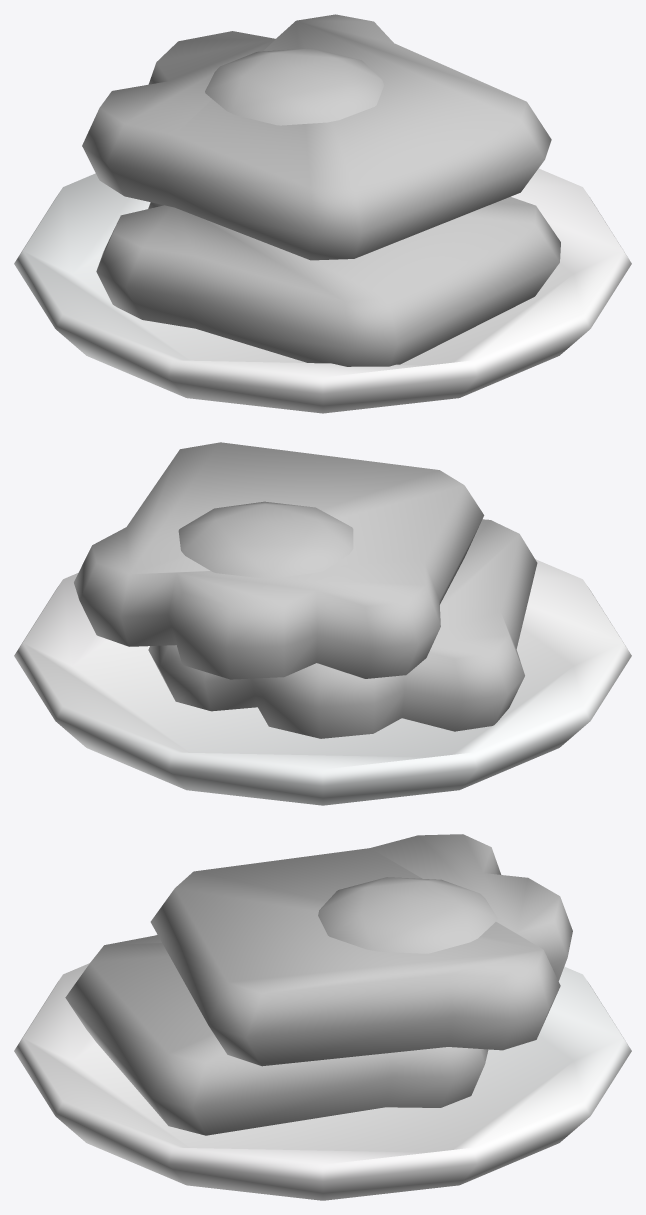
Rendered from 1_Food_Model.fbx.
3 renders of one model, top to bottom at view 1: azimuth 30°, elevation 25°; view 2: azimuth 150°, elevation 25°; view 3: azimuth 270°, elevation 25°, orthographic.
Parts seen in each view (by area): view 1: 1_Food_Model; view 2: 1_Food_Model; view 3: 1_Food_Model.
Part boxes in pixels (box(x1,y1,x2,y2)): 1_Food_Model: box(14, 14, 631, 413); 1_Food_Model: box(14, 442, 631, 805); 1_Food_Model: box(14, 834, 631, 1200).
Bounding box in the file's own units: 129 × 44.87 × 129.
